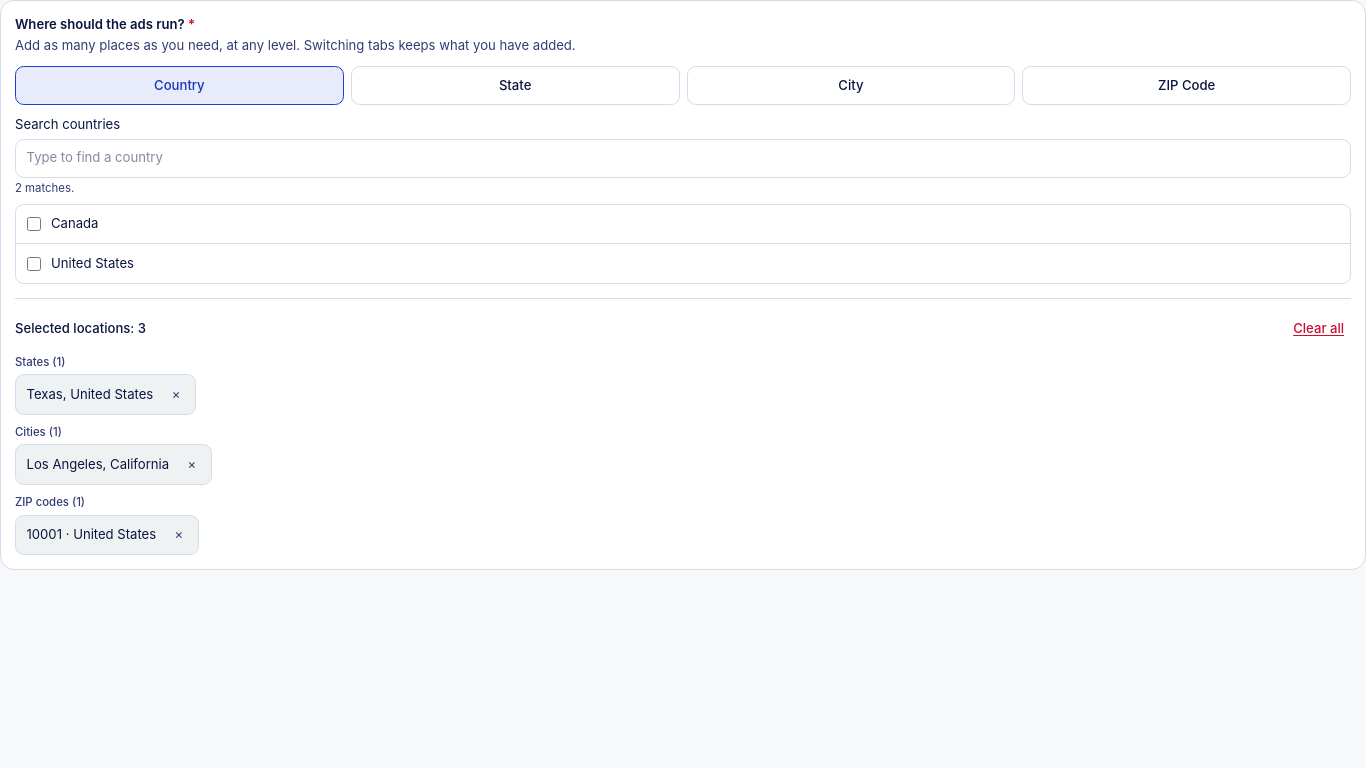
Scenario: LocationPicker › removes one chip, and asks before clearing everything
Click the button named "Remove Texas, United States".
click(176, 394)  # box 157,375 -> 195,414
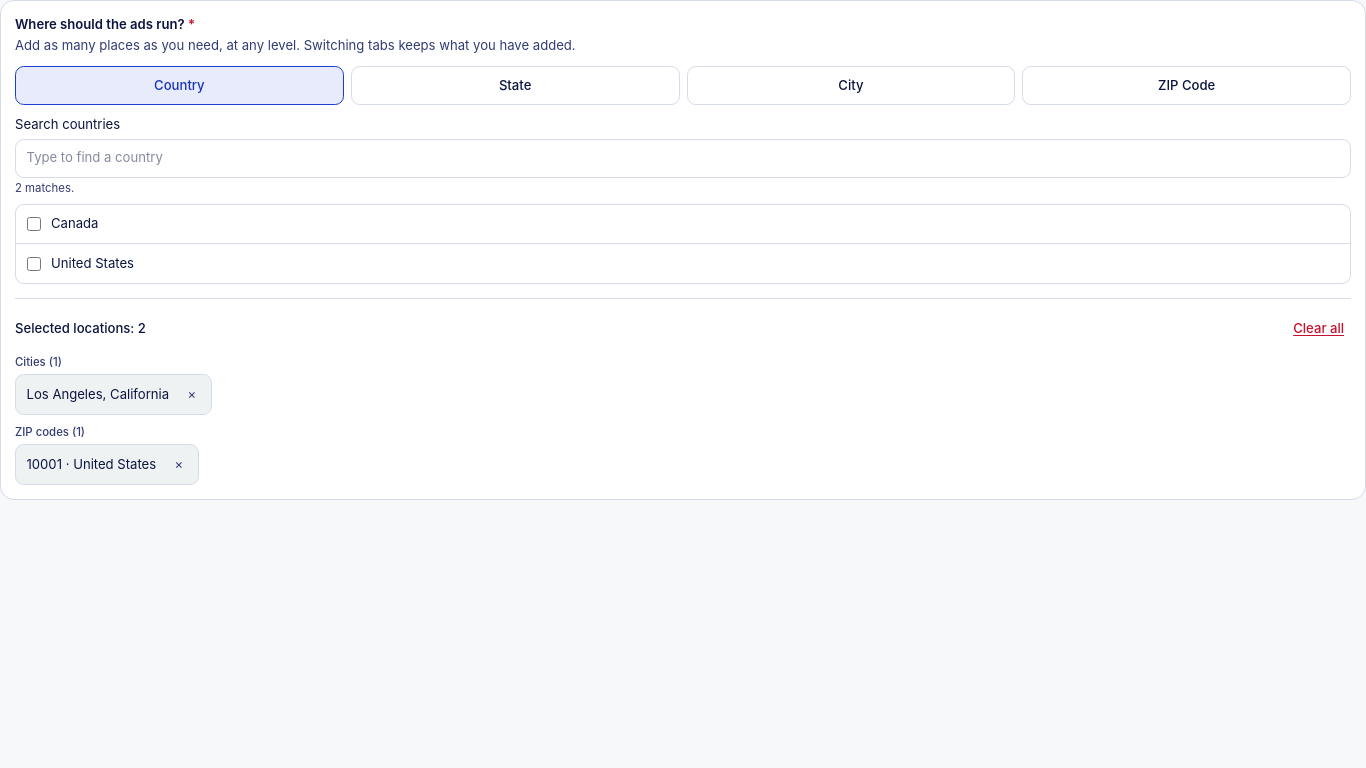
Expected: the text "Selected locations: 2" is shown, 15,319 -> 146,338
Click the button "Clear all".
click(1319, 329)  # box 1286,309 -> 1351,348
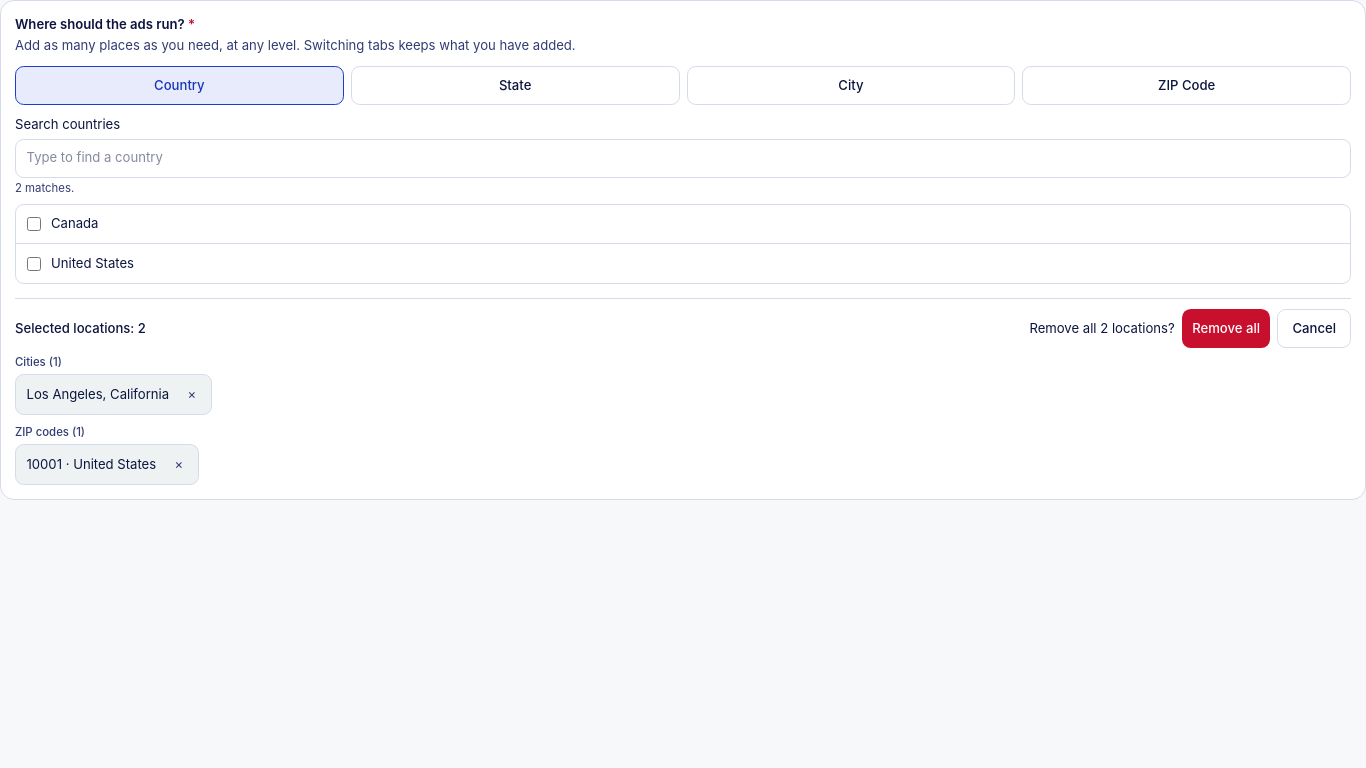
Expected: the text "Remove all 2 locations?" is shown, 1029,319 -> 1175,338
Click the button "Cancel".
click(1314, 329)  # box 1278,309 -> 1351,348
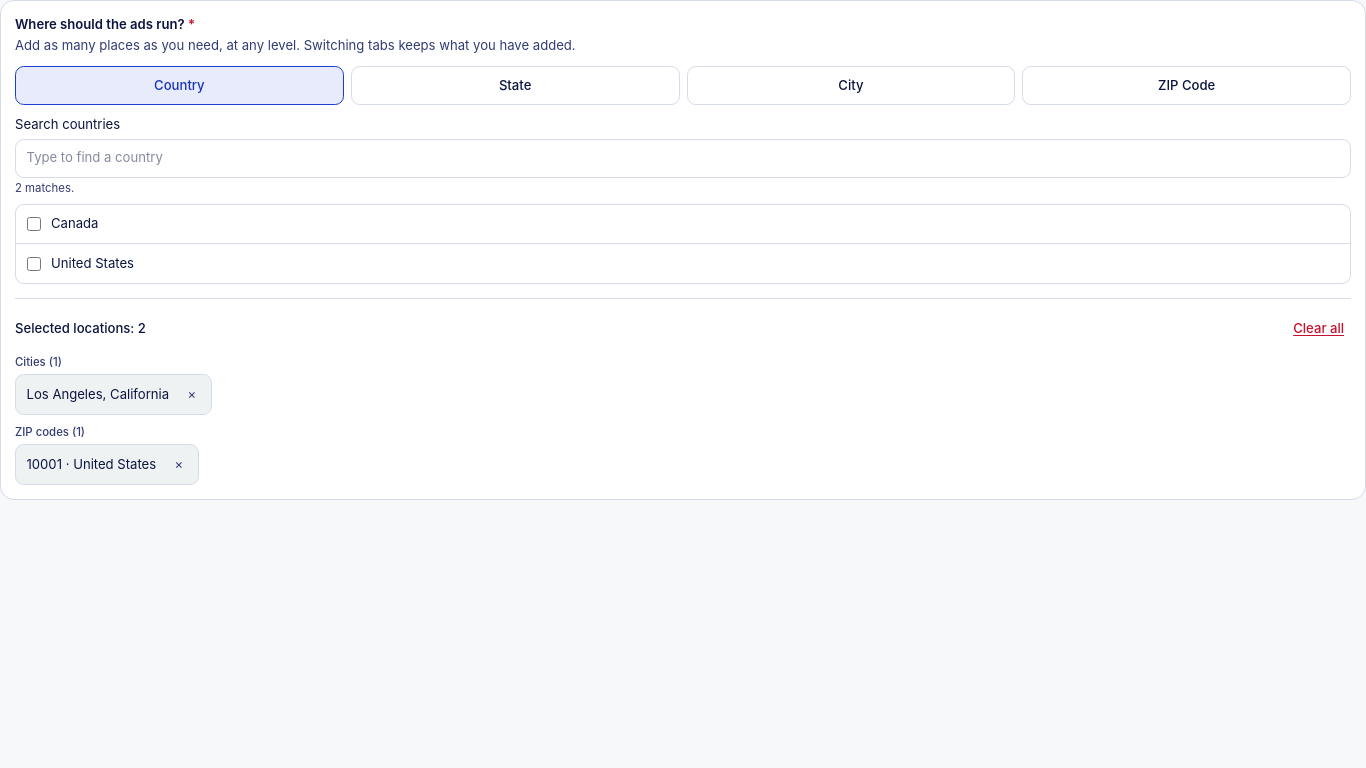
Click the button "Clear all".
click(1319, 329)  # box 1286,309 -> 1351,348
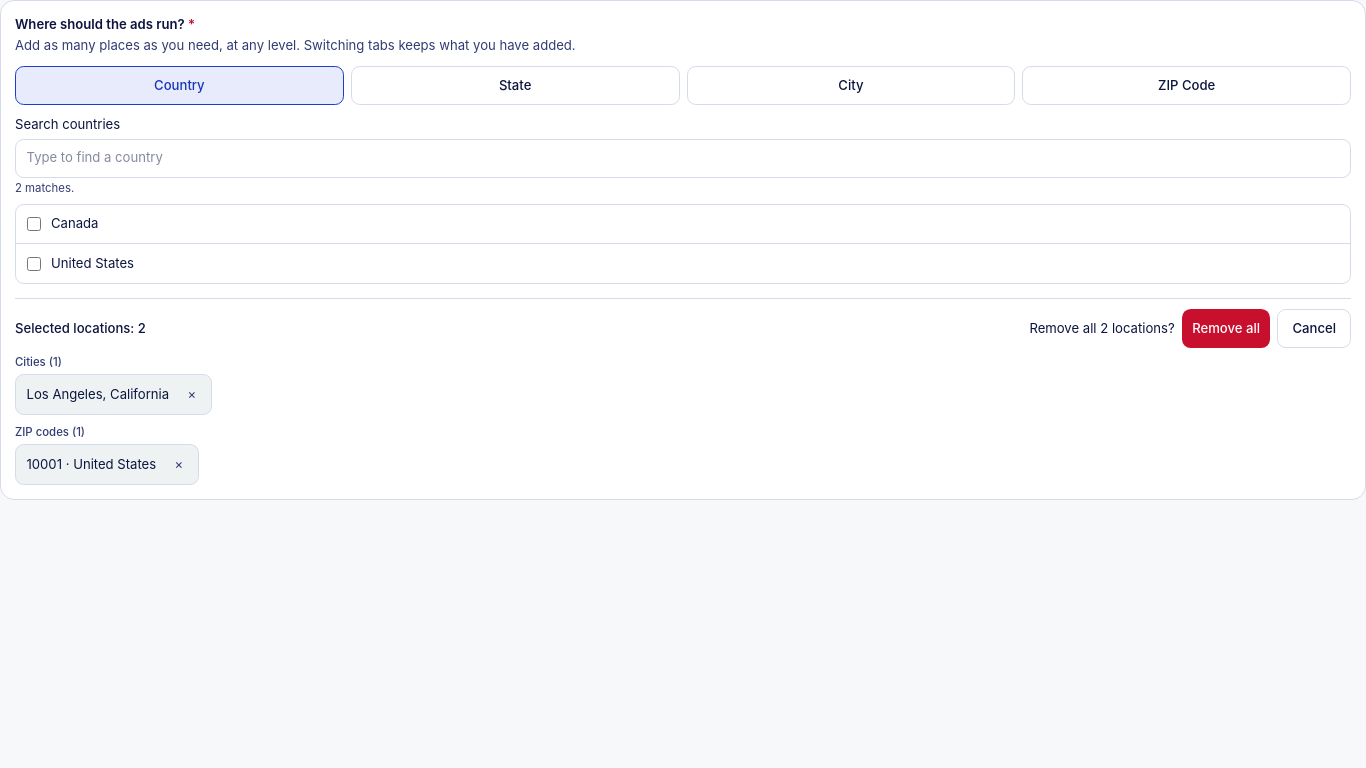
Click the button "Remove all".
click(1226, 329)  # box 1182,309 -> 1270,348
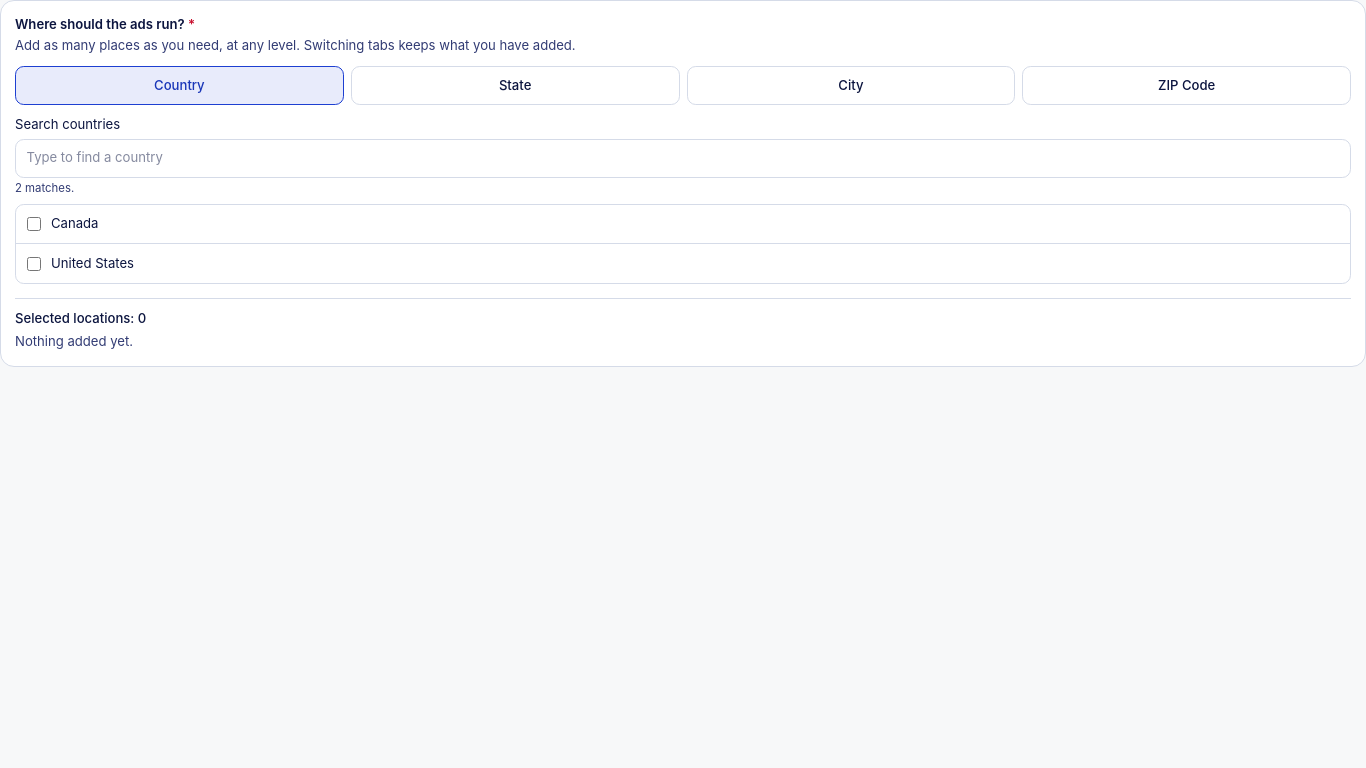
Expected: the text "Nothing added yet." is shown, 15,334 -> 133,350
